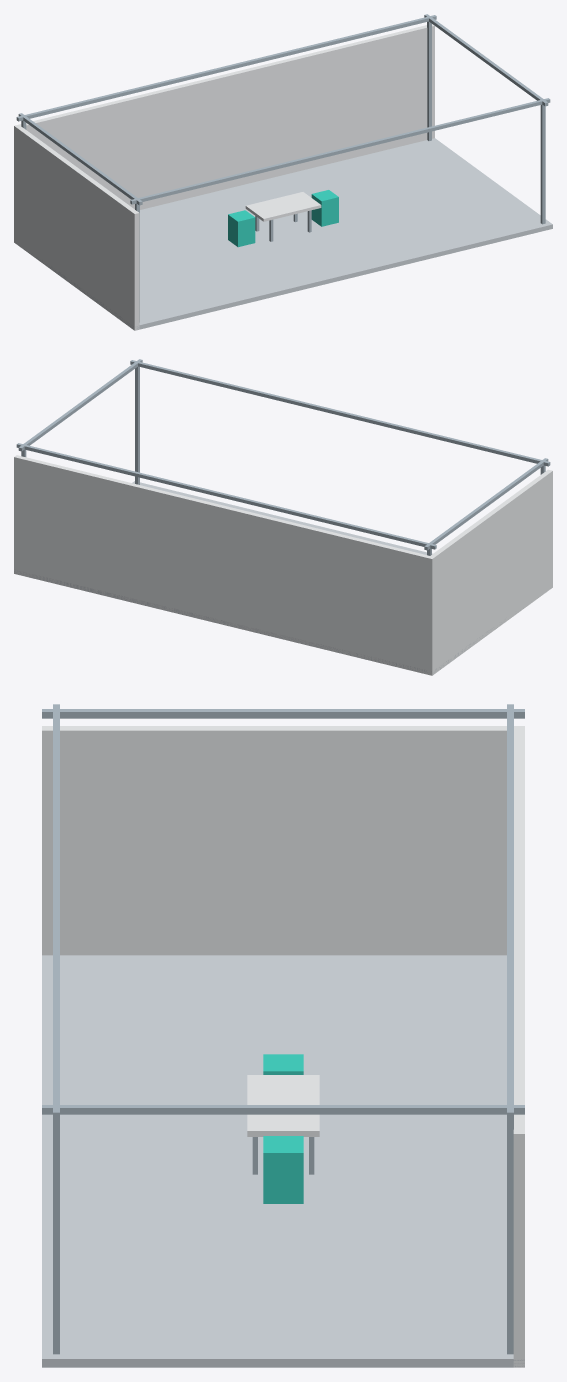
3 renders of one model, top to bottom at view 1: azimuth 30°, elevation 25°; view 2: azimuth 150°, elevation 25°; view 3: azimuth 270°, elevation 25°, orthographic. The views are drawn at different scales.
Visible parts, largest first — view 1: Exhibition Booth Concept; view 2: Exhibition Booth Concept; view 3: Exhibition Booth Concept.
Boxes of the visible parts, x1,y1,x2,y2 form: Exhibition Booth Concept: [14, 14, 552, 330]; Exhibition Booth Concept: [14, 359, 552, 675]; Exhibition Booth Concept: [42, 704, 524, 1367].
Size of the model in its own units: 12 by 3.49 by 6.
